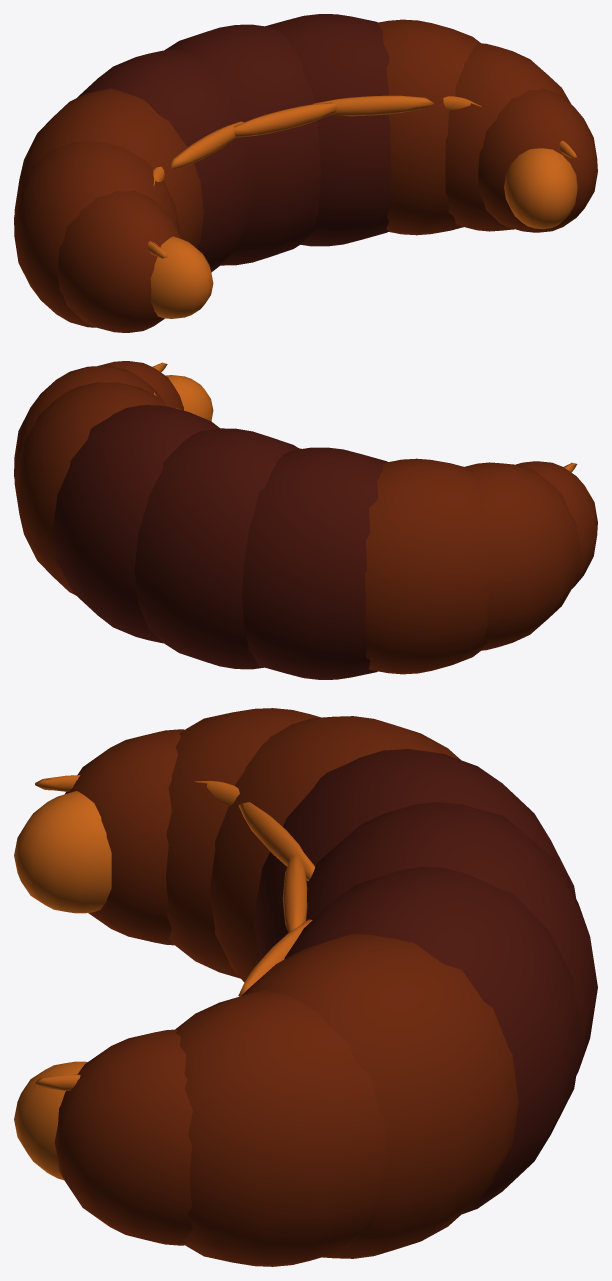
File: croissant.fbx
3 renders of one model, top to bottom at view 1: azimuth 30°, elevation 25°; view 2: azimuth 150°, elevation 25°; view 3: azimuth 270°, elevation 25°, orthographic. The views are drawn at different scales.
Visible parts, largest first — view 1: croissant; view 2: croissant; view 3: croissant.
Part boxes in pixels (box(x1,y1,x2,y2)): croissant: box(14, 14, 597, 332); croissant: box(14, 361, 597, 679); croissant: box(14, 708, 597, 1266).
Size of the model in its own units: 100 by 39.43 by 63.19.
